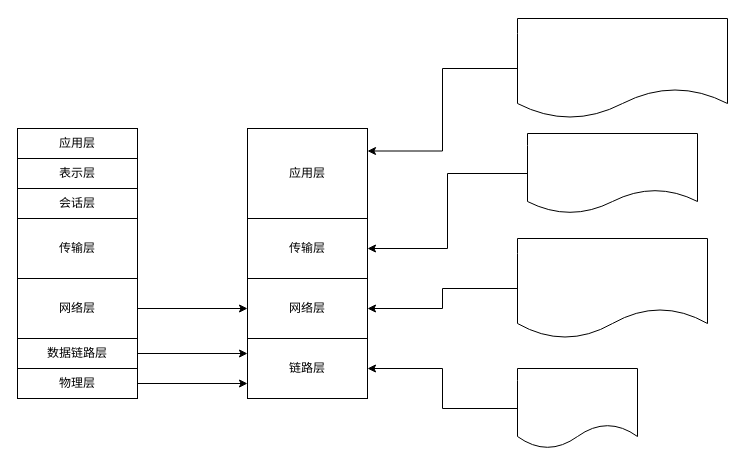
The diagram is 745 pixels wide and 466 high, and some of its shapes have lost their labels. Each missing label, with the centre of its shape:
"IP协议（网际协议）、ICMP协议（Internet互联网控制报文协议），以及IGMP协议（Internet组管理协议）" belongs at [612,288].
"TCP（传输控制协议）和UDP（用户数据报协议）" belongs at [612,173].
"Telnet（远程登录）、FTP（文件传输协议）、SMTP（简单邮件传送协议）以及SNMP（简单网络管理协议）" belongs at [622,68].
"设备驱动程序和对应的网络接口卡" belongs at [577,408].
